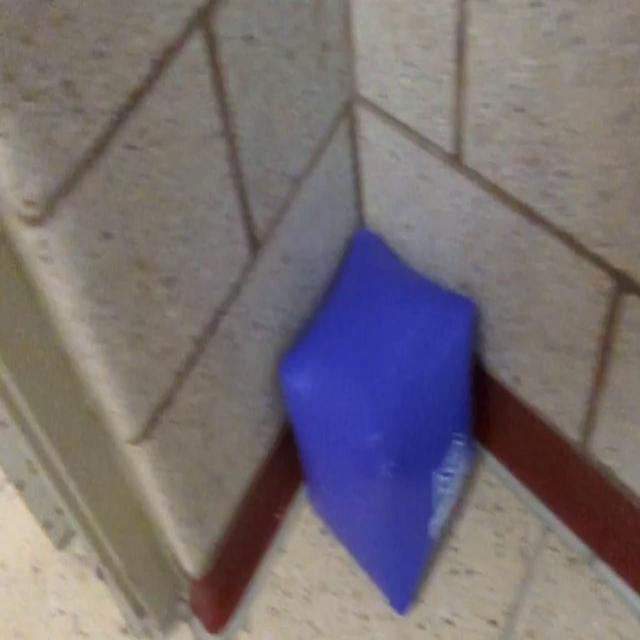frc_cube: (282, 227, 482, 618)
